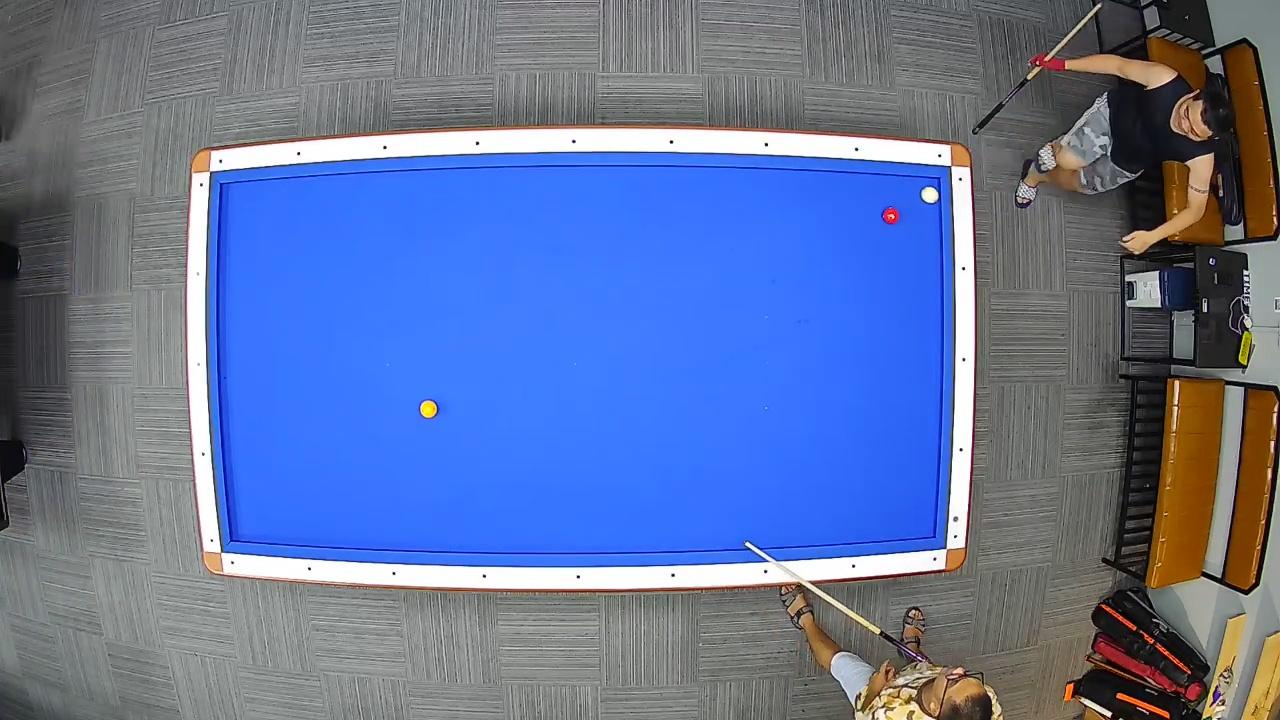Red: (882, 206, 901, 226)
White: (921, 184, 940, 204)
Yellow: (419, 398, 439, 420)
